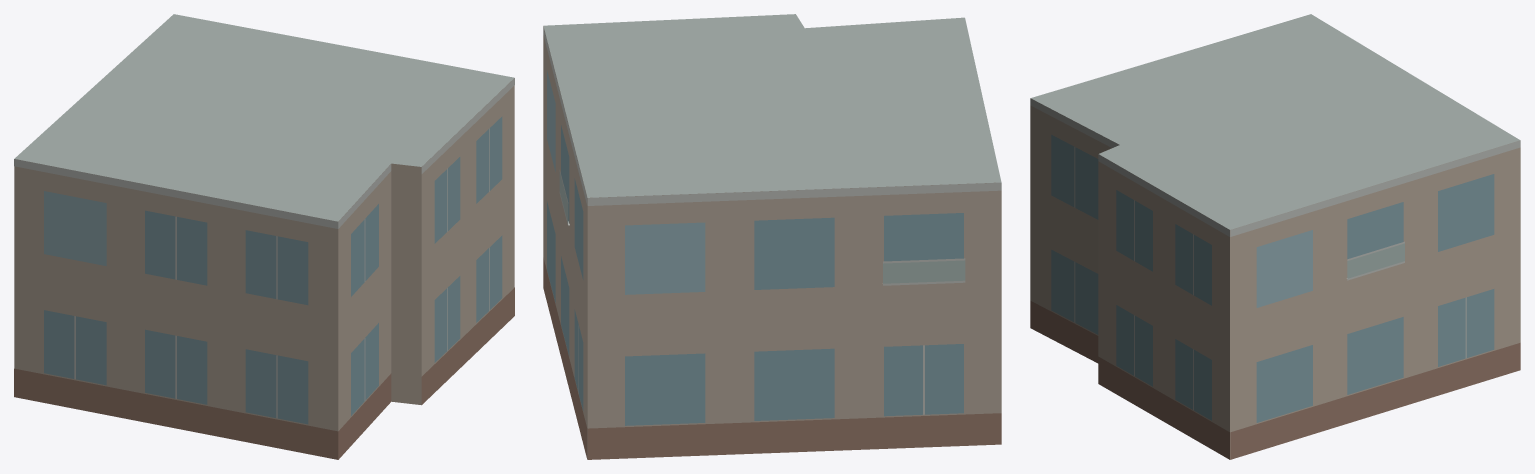
The model's file is survey-upis-32795720.glb.
The picture shows the model from 3 angles, left to right: view 1: azimuth 30°, elevation 25°; view 2: azimuth 150°, elevation 25°; view 3: azimuth 270°, elevation 25°; orthographic projection. The views are drawn at different scales.
Visible parts, largest first — view 1: survey-upis-32795720.tmp; view 2: survey-upis-32795720.tmp; view 3: survey-upis-32795720.tmp.
Part boxes in pixels (x1,y1,x2,y2): survey-upis-32795720.tmp: (14,14,514,459); survey-upis-32795720.tmp: (543,14,1001,459); survey-upis-32795720.tmp: (1030,14,1520,459).
Bounding box in the file's own units: 15.72 × 7.8 × 15.08.
